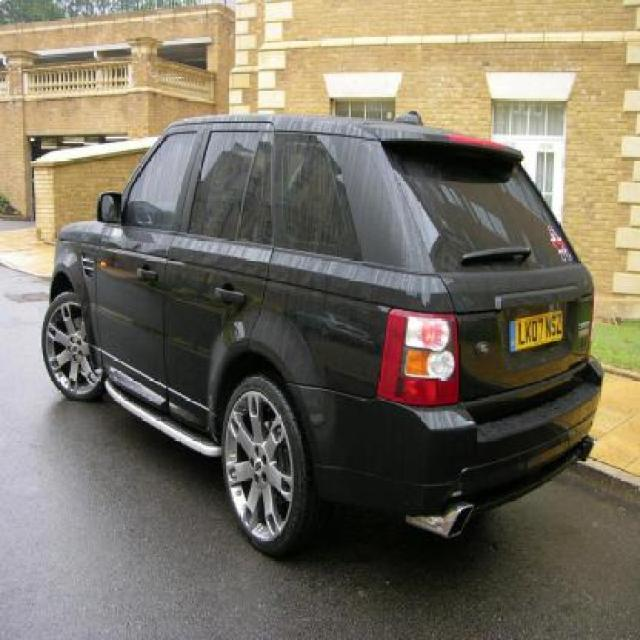Licenseplate: (511, 305, 571, 352)
